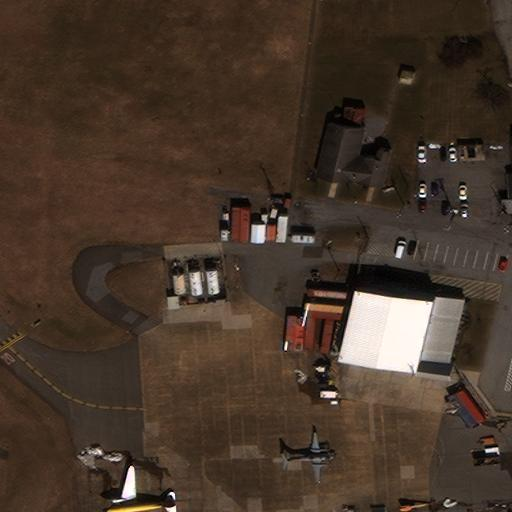Medium Civil Transport: (282, 432, 335, 482)
Military Transport: (106, 467, 176, 511)
